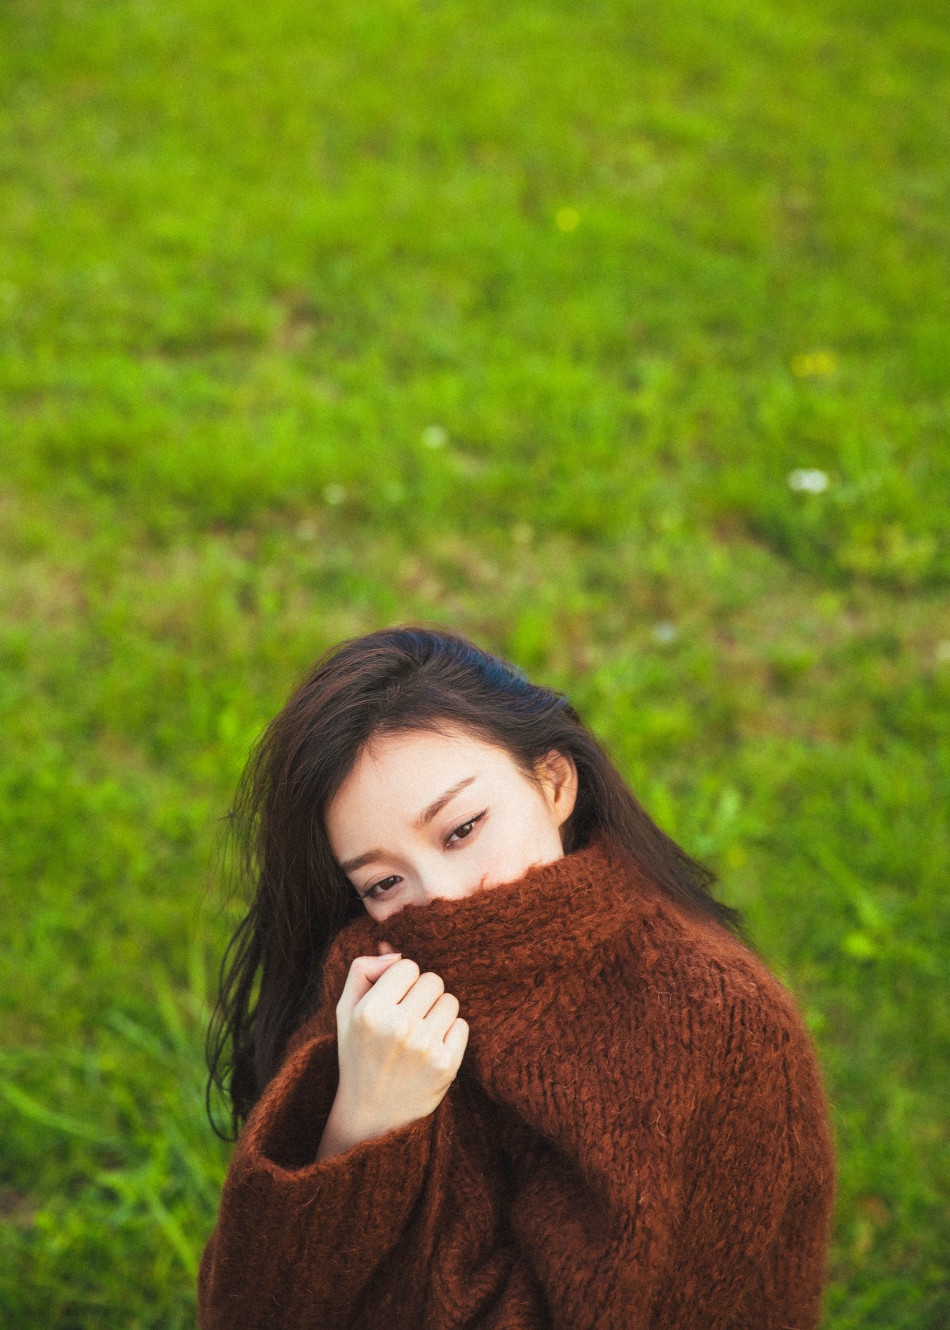face_mask: (334, 724, 547, 1016)
